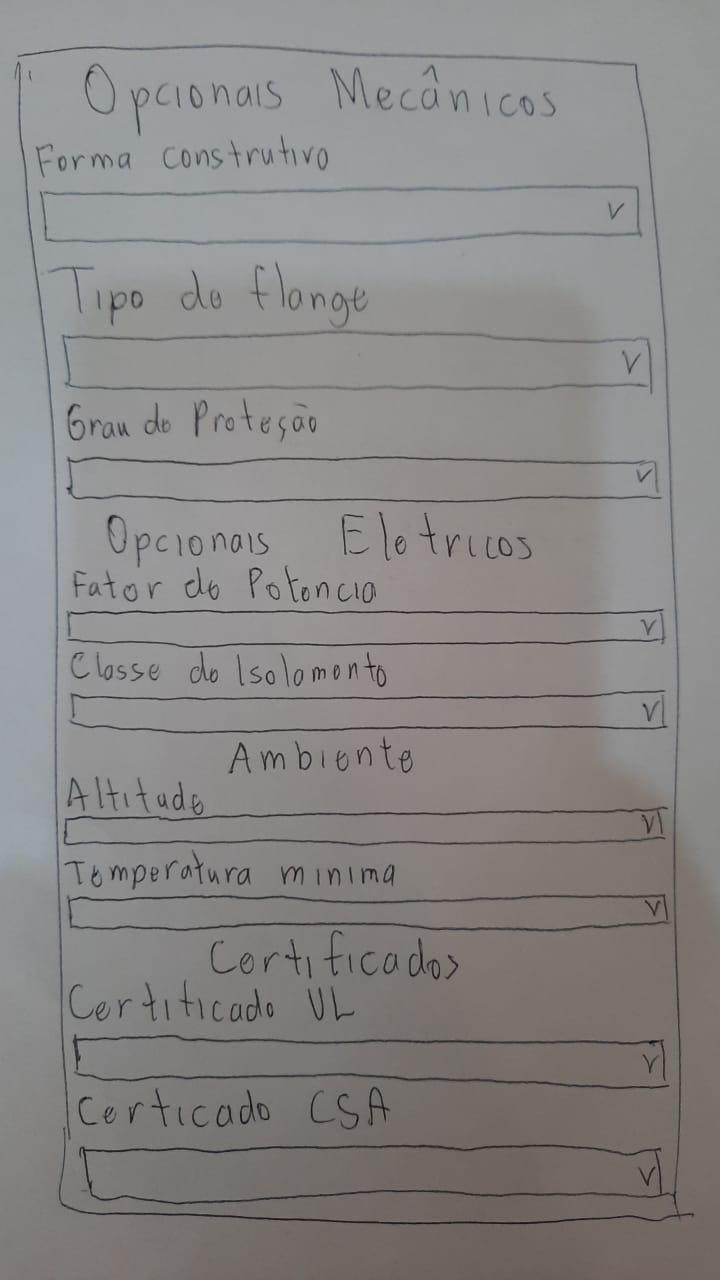Label: (83, 62, 557, 136), (104, 509, 533, 569), (49, 260, 367, 327), (78, 1085, 389, 1131), (63, 847, 396, 885), (209, 930, 459, 980), (68, 650, 388, 689), (68, 980, 355, 1023), (36, 136, 328, 178), (73, 564, 379, 604), (67, 395, 318, 442), (227, 734, 414, 773), (66, 775, 204, 814)
ListPicker: (62, 330, 654, 390), (84, 1144, 664, 1205), (39, 185, 642, 243), (74, 1033, 668, 1090), (68, 454, 661, 503), (68, 690, 666, 733), (67, 608, 665, 648), (64, 807, 668, 846), (67, 895, 669, 932)
Screen: (18, 44, 680, 1224)
